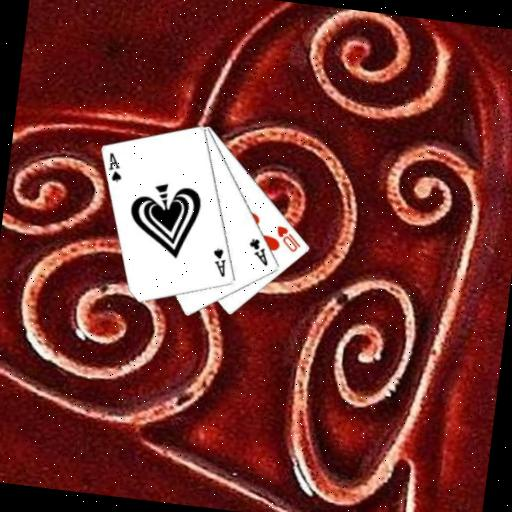10H: (271, 222, 305, 255)
AC: (244, 235, 273, 268)
AS: (104, 149, 127, 185), (208, 244, 230, 279)
